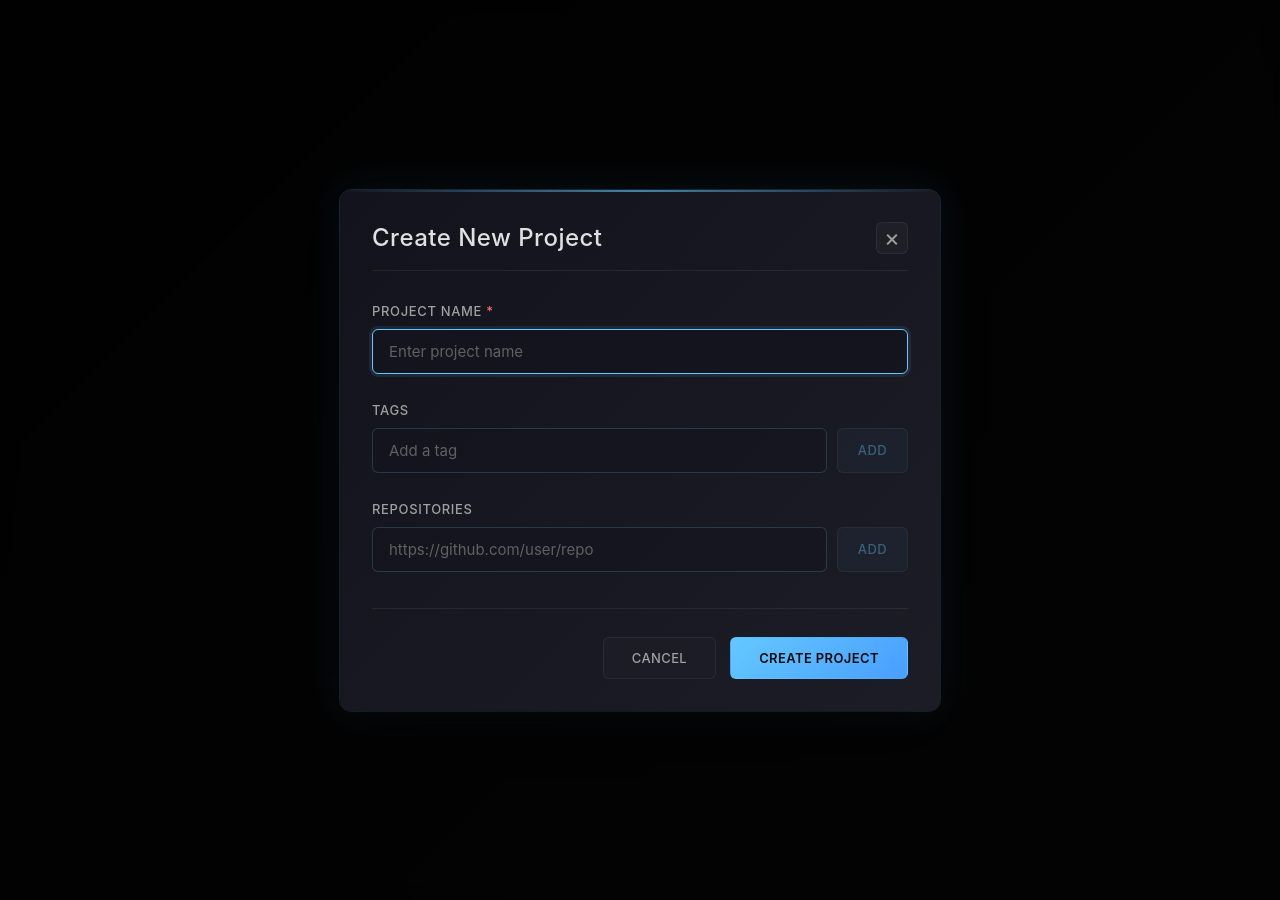
Test: NewProjectModal Component › Tags Management › should remove tag when remove button is clicked
The width and height of the screenshot is (1280, 900).
Type "electron" into the field labelled "Tags".
click(599, 450); type("electron")  # box [372,428,827,472]
Then press Enter
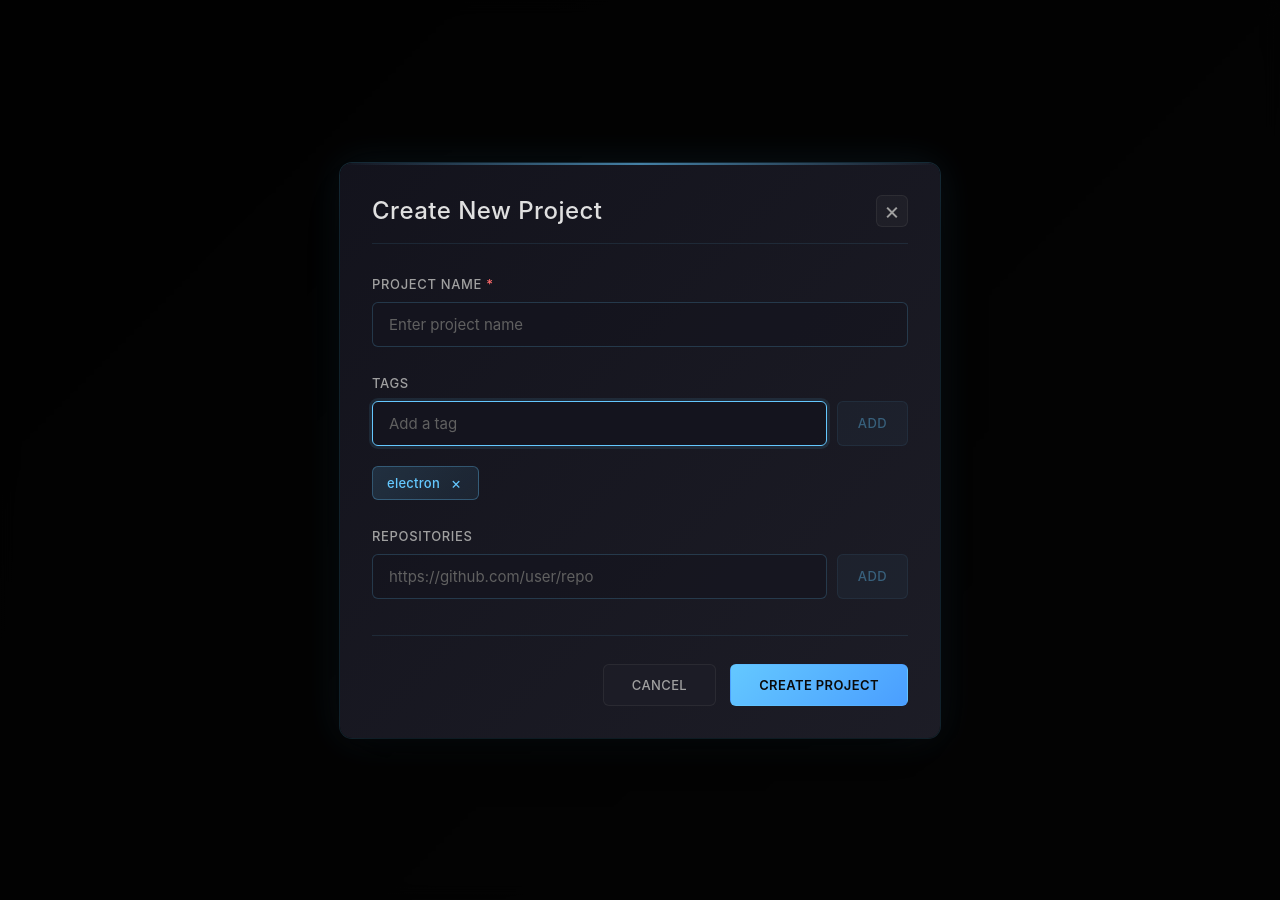
Expected: the text "electron" is shown, [387,474,440,490]
Click the button named "Remove electron".
click(456, 482)  # box [448,474,464,490]
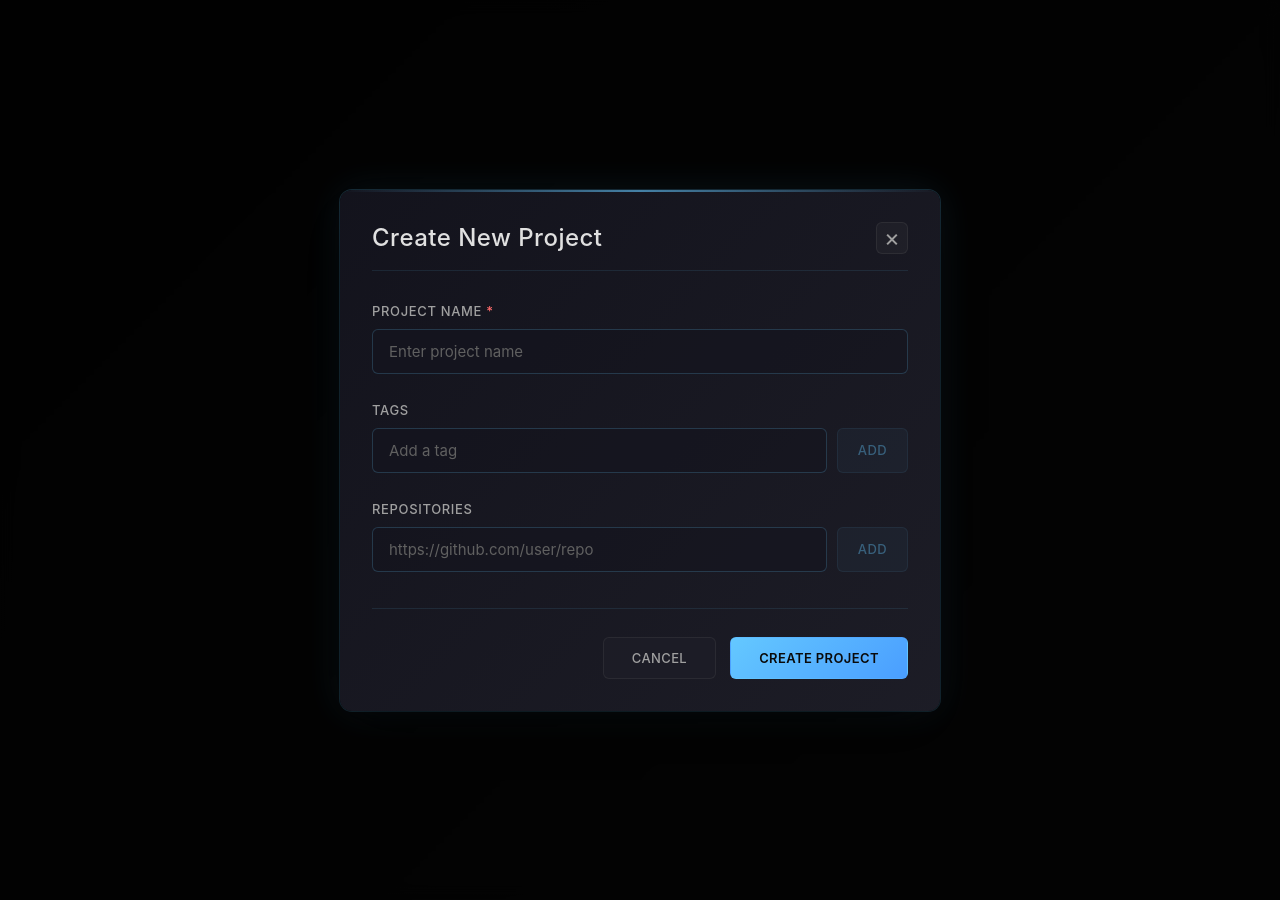
Expected: the text "electron" is gone
